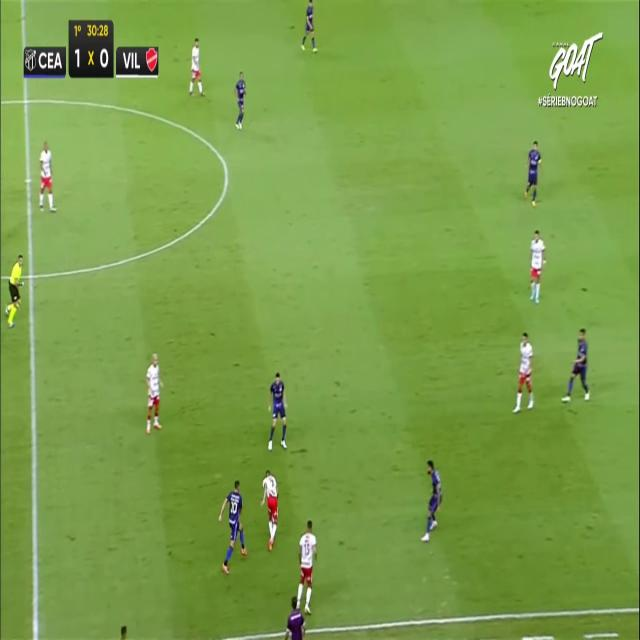player: (217, 479, 247, 574), (561, 327, 590, 402), (295, 519, 317, 614), (421, 459, 443, 541), (512, 331, 534, 413), (267, 371, 287, 451), (145, 352, 163, 434), (260, 469, 278, 551), (528, 229, 546, 303), (39, 140, 57, 212), (524, 140, 542, 206), (189, 36, 205, 96), (300, 0, 317, 52), (235, 70, 246, 129)
referee: (4, 253, 24, 328)
